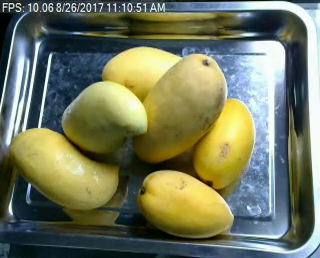Mango: (130, 53, 229, 161), (6, 125, 124, 209), (135, 167, 235, 239), (60, 79, 145, 153), (189, 97, 254, 190), (99, 40, 184, 103)
